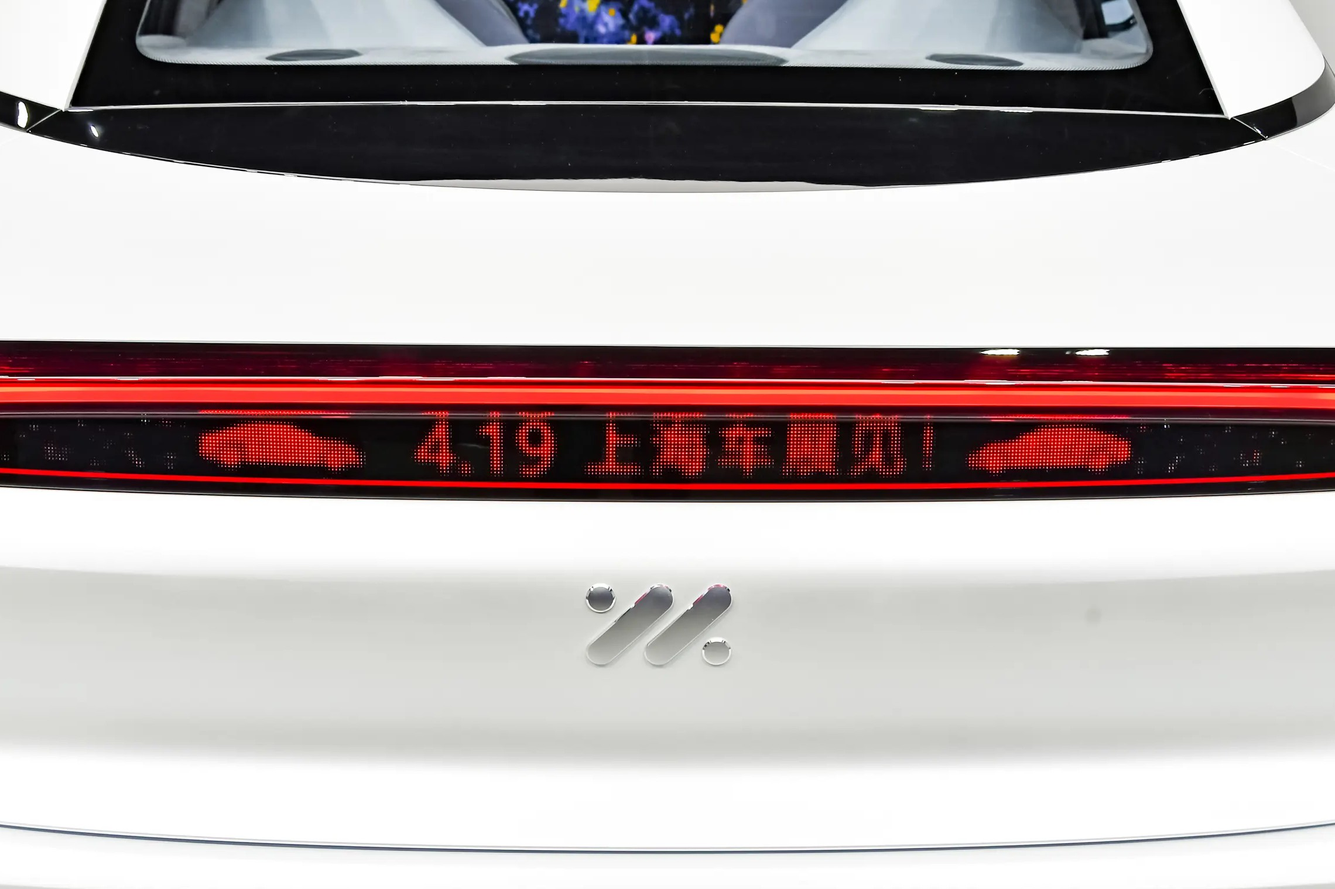IM: (586, 584, 732, 664)
